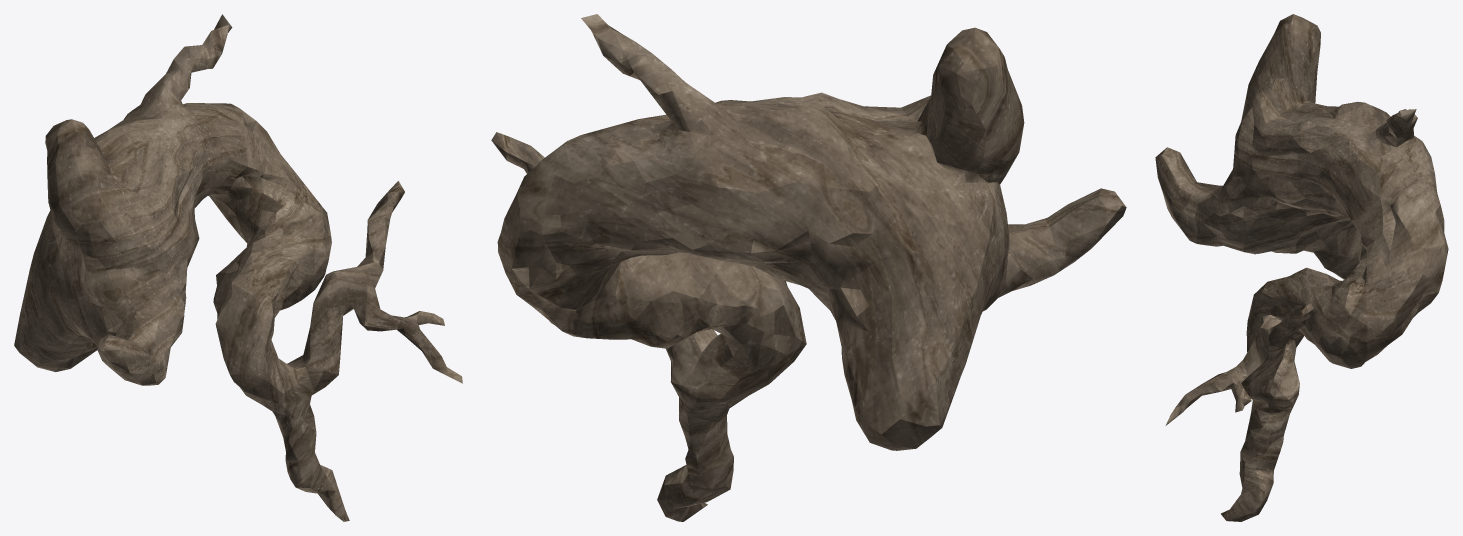
The model's file is tree mid low.fbx.
3 views of the same model, side by side, from view 1: azimuth 30°, elevation 25°; view 2: azimuth 150°, elevation 25°; view 3: azimuth 270°, elevation 25° (orthographic). The views are drawn at different scales.
Visible parts, largest first — view 1: tree_Low__4_; view 2: tree_Low__4_; view 3: tree_Low__4_.
Boxes of the visible parts, x1,y1,x2,y2 form: tree_Low__4_: (14,14,462,521); tree_Low__4_: (491,14,1126,521); tree_Low__4_: (1155,14,1448,521).
Bounding box in the file's own units: 174 × 190 × 125.
